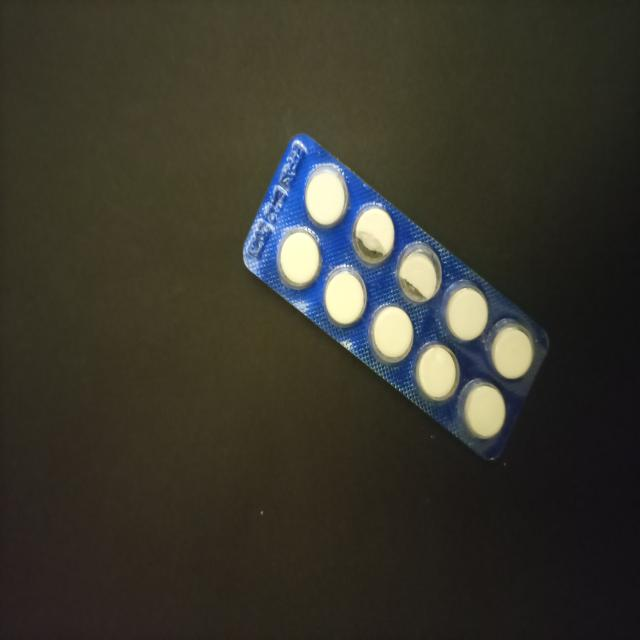defect: (396, 241, 444, 306), (351, 202, 396, 269)
